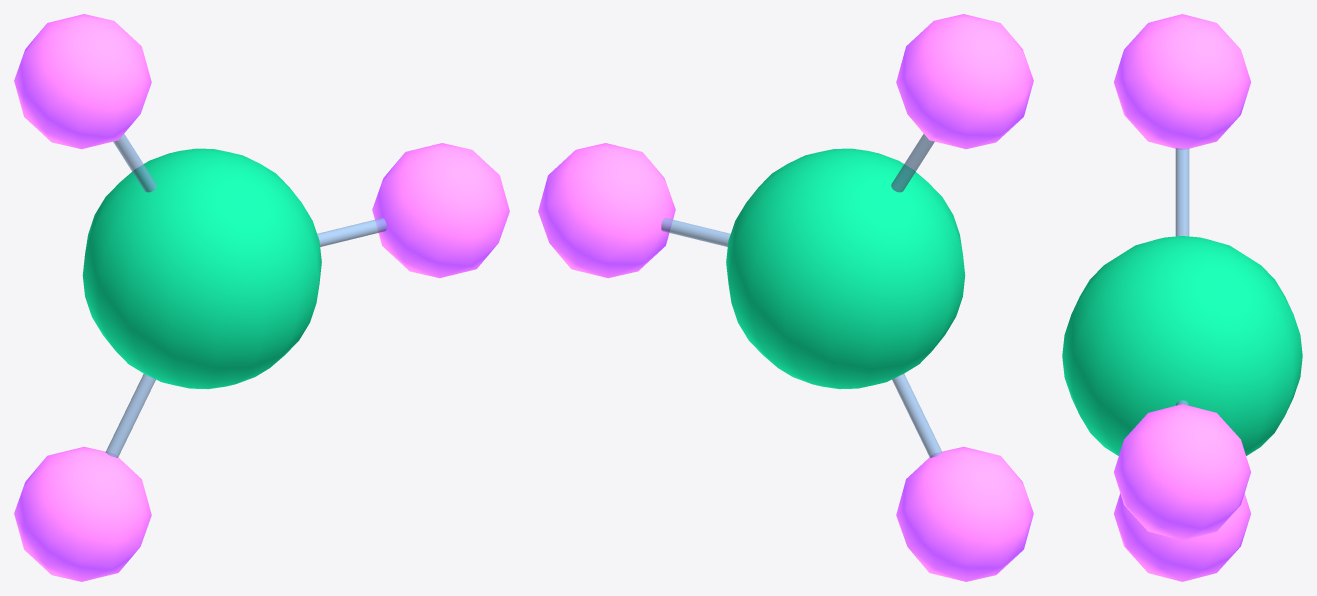
File: collaborate.glb
3 renders of one model, left to right at view 1: azimuth 30°, elevation 25°; view 2: azimuth 150°, elevation 25°; view 3: azimuth 270°, elevation 25°, orthographic.
Visible parts, largest first — view 1: network_hub, object 3, object 1, object 5, object 6, object 2, object 4; view 2: network_hub, object 3, object 1, object 5, object 6, object 2, object 4; view 3: network_hub, object 1, object 3, object 5, object 4.
Part boxes in pixels (<box>): network_hub: <box>82,148,321,389</box>; object 3: <box>14,14,151,149</box>; object 1: <box>372,143,509,278</box>; object 5: <box>14,446,151,581</box>; object 6: <box>105,374,155,457</box>; object 2: <box>317,218,386,246</box>; object 4: <box>113,134,156,192</box>; network_hub: <box>726,148,965,389</box>; object 3: <box>896,14,1033,149</box>; object 1: <box>538,143,675,278</box>; object 5: <box>896,446,1033,581</box>; object 6: <box>892,374,942,457</box>; object 2: <box>661,218,730,246</box>; object 4: <box>891,134,934,192</box>; network_hub: <box>1062,236,1302,455</box>; object 1: <box>1114,404,1250,540</box>; object 3: <box>1114,14,1250,149</box>; object 5: <box>1114,493,1250,581</box>; object 4: <box>1175,148,1189,236</box>.
Bounding box in the file's own units: 1.6 × 1.79 × 0.7.
